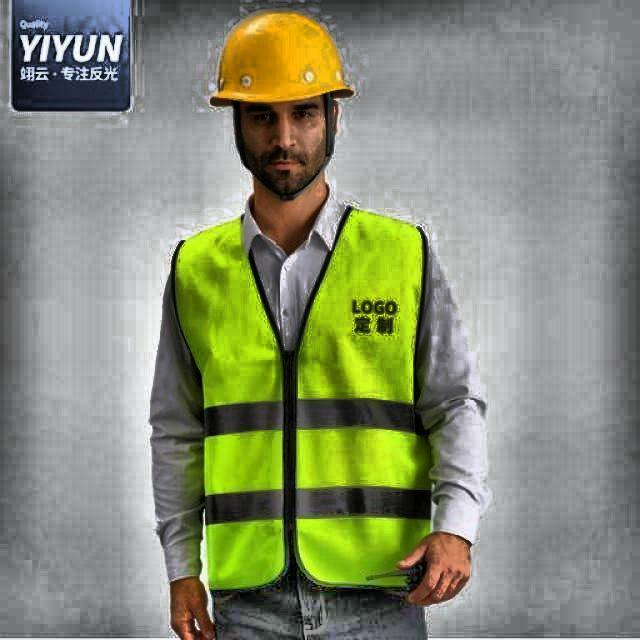safety_helmet: (210, 12, 356, 112)
safety_jacket: (178, 203, 434, 592)
